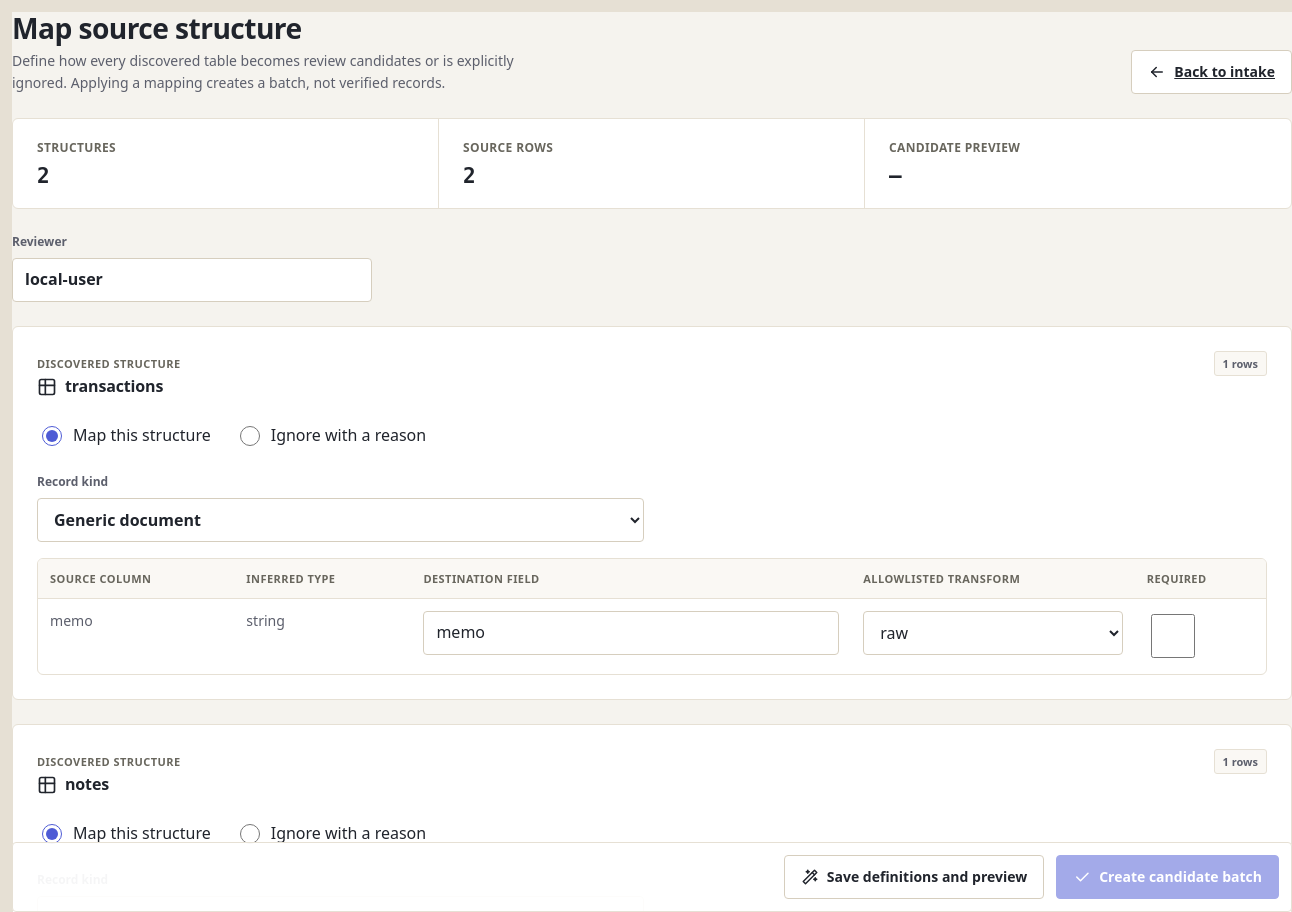
Test: MappingWorkspace › creates a complete source mapping set and renders hostile-looking preview values literally
Expected: the heading "transactions" is shown, [37,377,181,397]
Expected: the button "Create candidate batch" is disabled, [1056,855,1279,899]
Click the button "Save definitions and preview" at (914,877), box [784,855,1044,899]
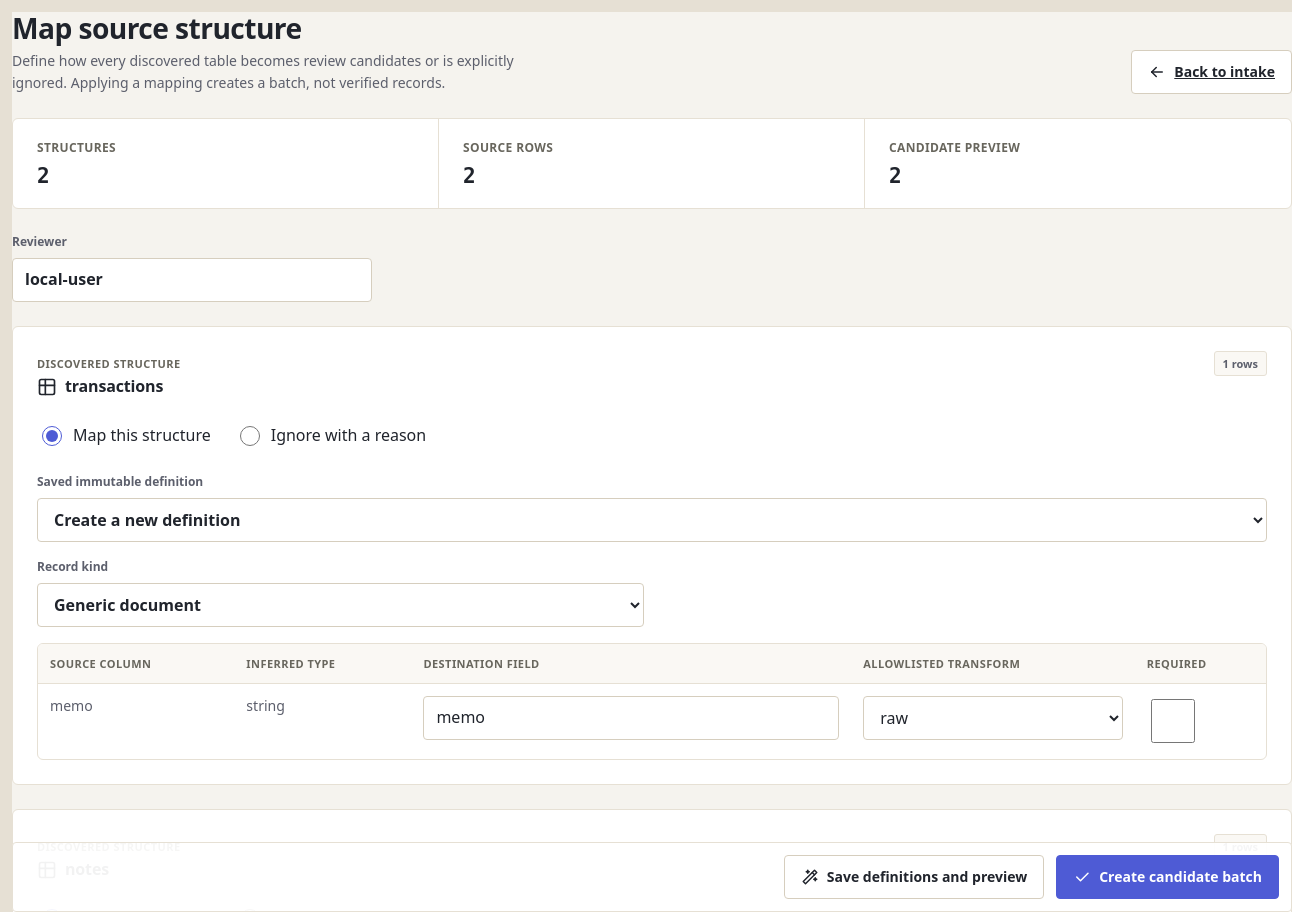
Expected: the button "Create candidate batch" is enabled, [1056,855,1279,899]
